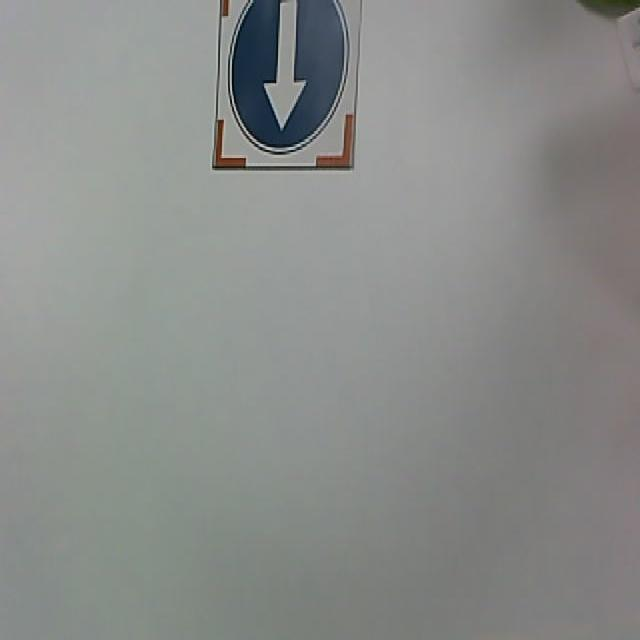straight: (231, 0, 351, 152)
